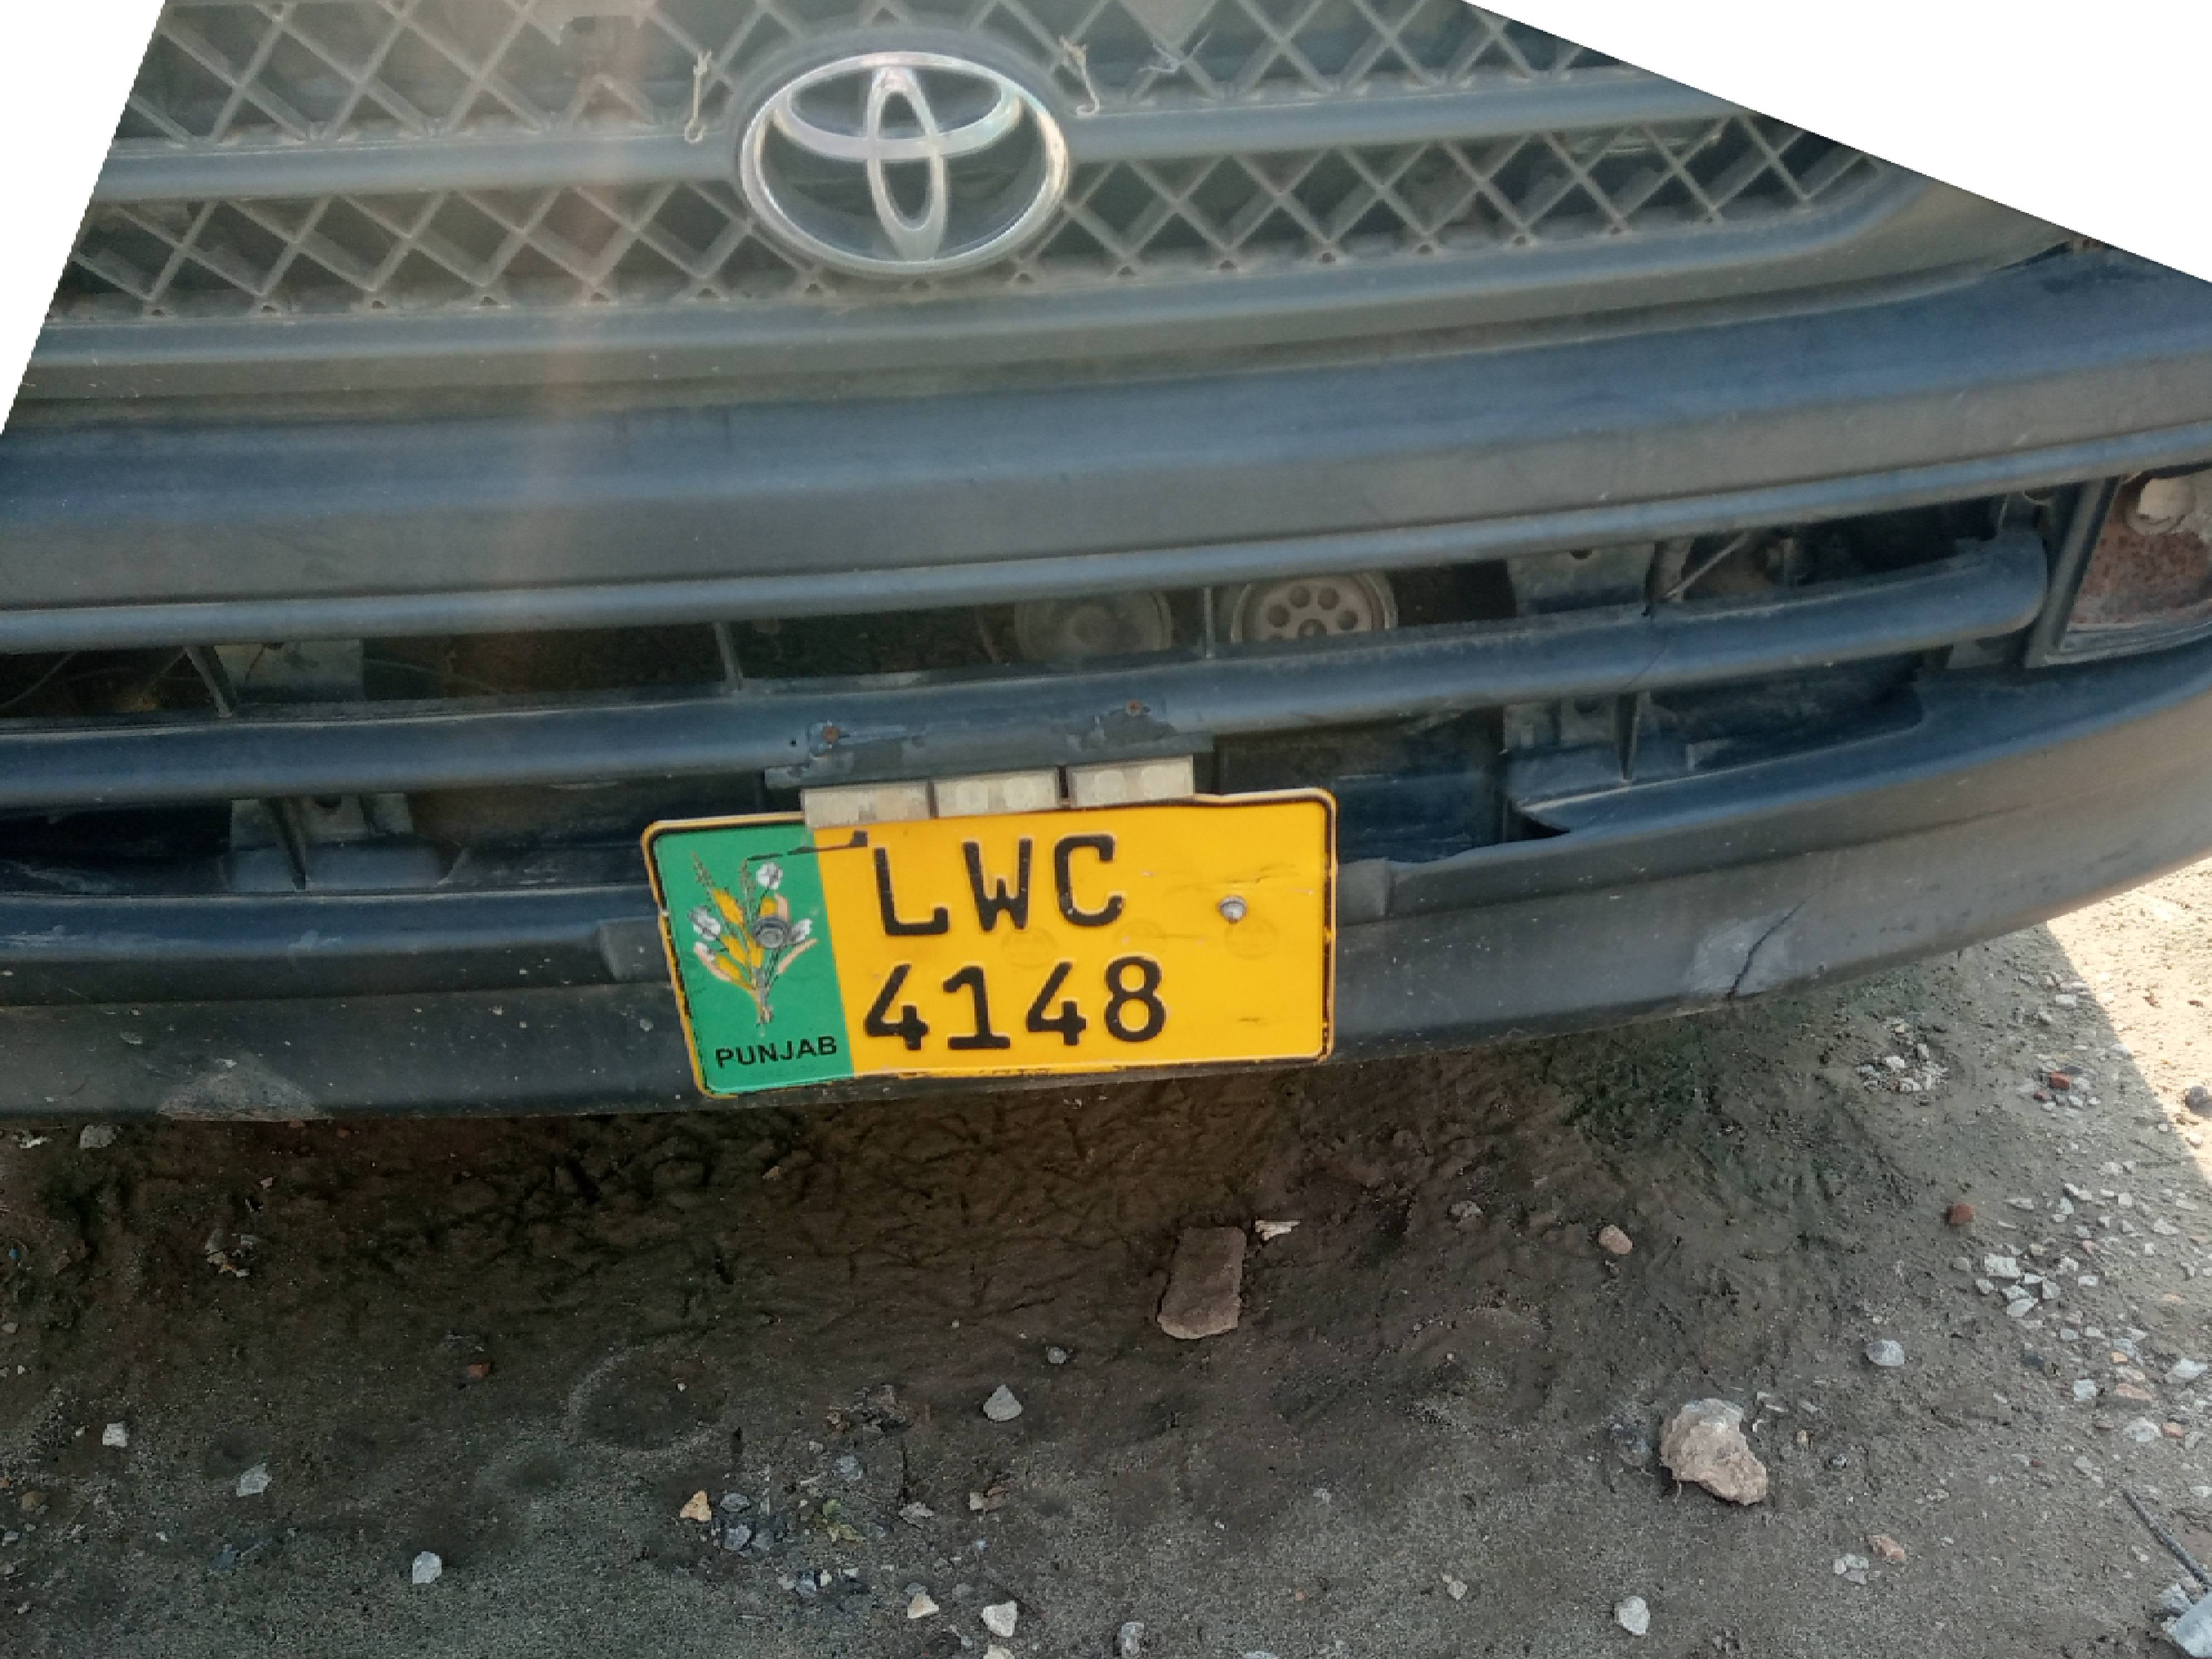number_plate: (660, 802, 1351, 1093)
